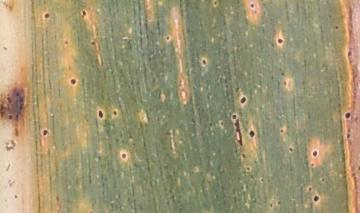tarspot: (227, 110, 245, 155), (94, 105, 107, 124), (244, 126, 260, 141), (108, 105, 121, 122), (64, 74, 80, 87), (237, 92, 250, 108), (116, 148, 130, 162), (8, 189, 23, 202), (309, 190, 322, 204), (40, 8, 52, 22), (37, 124, 49, 138), (203, 117, 215, 131), (244, 1, 262, 10), (309, 148, 322, 160), (273, 33, 284, 47), (87, 37, 99, 48), (196, 55, 208, 66), (343, 45, 354, 57), (343, 109, 353, 122), (76, 8, 90, 17), (4, 112, 16, 122), (285, 143, 295, 155), (275, 125, 287, 135), (10, 88, 20, 100), (280, 78, 289, 90), (163, 33, 173, 43), (62, 37, 73, 46), (304, 183, 312, 192), (209, 1, 219, 8), (331, 21, 338, 31)
